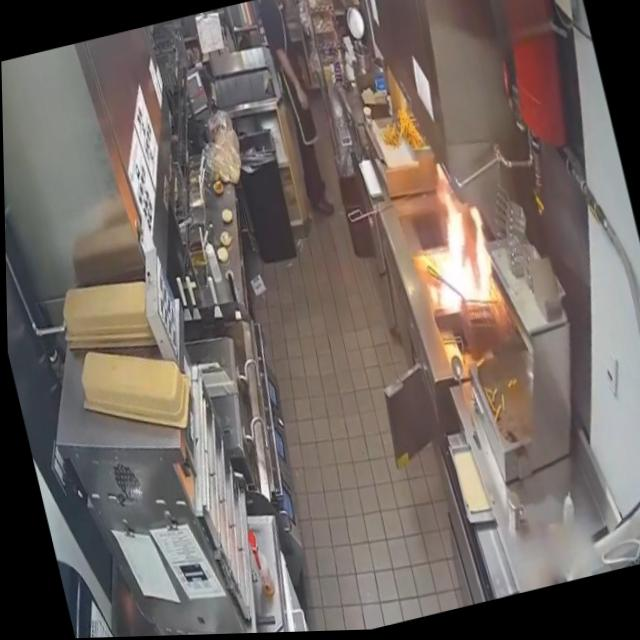fire: (406, 187, 504, 327)
